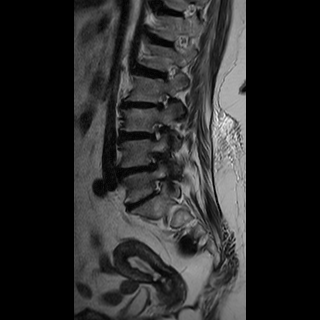RFS1: (142, 118, 171, 147), (149, 88, 178, 117)
